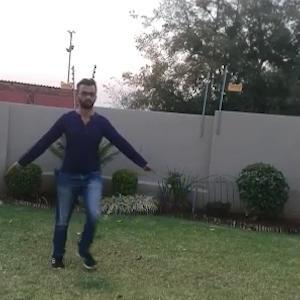land: (23, 91, 135, 245)
